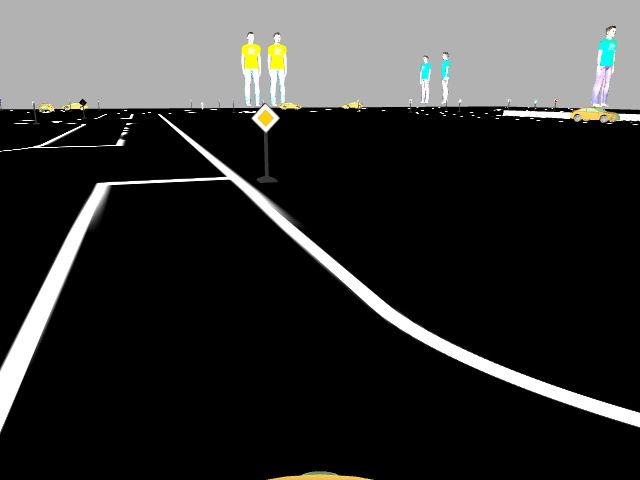Priority: (251, 106, 276, 130)
